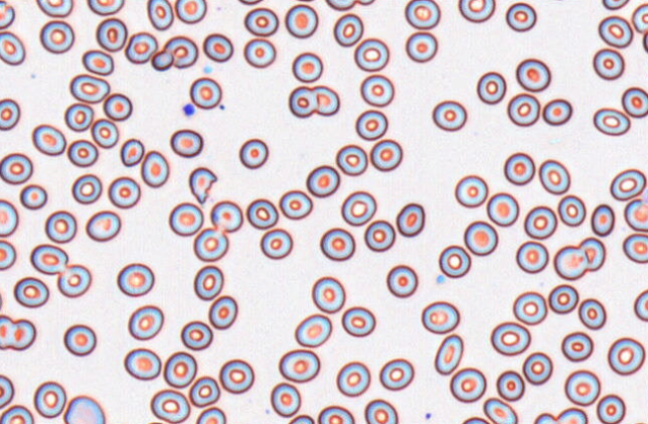PLT: (181, 102, 195, 118), (437, 273, 448, 285)
RBC: (607, 336, 645, 375), (278, 348, 320, 383), (150, 388, 190, 423), (490, 321, 530, 355), (0, 314, 36, 351), (564, 369, 600, 406), (127, 304, 163, 340), (340, 190, 376, 226), (218, 358, 254, 394), (449, 367, 486, 402), (117, 262, 154, 297), (335, 360, 370, 397), (294, 313, 332, 347), (421, 300, 459, 334), (311, 275, 345, 313), (63, 394, 105, 424), (433, 333, 463, 375), (463, 220, 498, 256), (515, 57, 551, 92), (163, 351, 197, 388), (33, 380, 66, 418), (123, 347, 161, 380), (553, 245, 588, 280), (56, 263, 91, 298), (193, 226, 228, 261), (168, 201, 203, 236), (353, 37, 389, 71), (319, 227, 355, 261), (609, 168, 646, 201), (30, 243, 68, 275), (69, 73, 109, 103), (512, 291, 547, 325), (284, 3, 318, 38), (379, 357, 414, 391), (597, 15, 633, 48), (523, 205, 557, 239), (454, 174, 488, 208), (163, 35, 198, 68), (486, 191, 519, 226), (305, 164, 340, 197), (39, 20, 74, 53), (13, 276, 49, 308), (538, 158, 570, 194), (431, 99, 467, 131), (438, 244, 471, 278), (507, 92, 540, 126), (31, 123, 66, 155), (359, 74, 394, 106), (85, 210, 121, 241), (592, 107, 630, 136), (63, 323, 96, 356), (210, 199, 243, 232), (124, 31, 157, 64), (515, 240, 548, 273), (369, 138, 402, 171), (189, 76, 222, 109), (95, 17, 127, 51), (503, 151, 535, 185), (259, 227, 293, 259), (341, 305, 375, 337), (386, 264, 418, 298), (270, 382, 301, 417), (193, 264, 223, 300), (140, 150, 169, 187), (44, 210, 76, 243), (0, 152, 33, 184), (107, 176, 140, 208), (363, 219, 395, 252), (592, 47, 624, 80), (395, 202, 425, 237), (404, 0, 440, 29), (188, 375, 220, 407), (335, 143, 367, 175), (355, 109, 388, 140), (522, 351, 552, 385), (278, 189, 312, 219), (208, 295, 238, 329), (243, 7, 278, 36), (291, 51, 323, 82), (561, 331, 593, 362), (246, 198, 278, 229), (243, 37, 275, 68), (405, 31, 437, 62), (180, 320, 213, 350), (333, 13, 363, 46), (476, 71, 506, 104), (169, 128, 203, 157), (578, 236, 606, 271), (71, 173, 102, 204), (505, 1, 536, 32), (482, 397, 517, 424), (596, 393, 626, 424), (548, 283, 578, 314), (202, 32, 233, 62), (238, 138, 268, 169), (288, 85, 317, 117), (557, 194, 586, 226), (67, 138, 98, 167), (496, 369, 524, 401), (578, 297, 606, 329), (0, 30, 25, 65), (621, 86, 648, 118), (81, 49, 114, 75), (623, 198, 648, 232), (364, 398, 398, 423), (64, 102, 93, 131), (103, 92, 132, 121), (312, 85, 339, 116), (457, 0, 495, 22), (590, 203, 615, 236), (146, 0, 173, 30), (91, 118, 118, 148), (542, 98, 572, 125), (622, 232, 648, 263), (174, 0, 206, 23), (19, 183, 47, 209), (119, 137, 144, 166), (0, 198, 18, 236), (317, 405, 354, 423), (0, 97, 20, 130), (0, 404, 34, 423), (35, 0, 73, 17), (86, 0, 124, 15), (195, 406, 226, 424), (631, 2, 648, 33), (556, 407, 588, 423), (633, 288, 648, 322), (0, 373, 14, 409), (0, 239, 16, 270), (0, 0, 15, 29), (324, 0, 356, 10), (532, 412, 557, 424), (601, 0, 630, 10), (286, 414, 314, 423), (460, 416, 490, 423), (642, 27, 648, 53), (235, 0, 264, 5), (356, 0, 376, 5), (0, 284, 3, 313), (143, 421, 171, 424), (538, 0, 579, 2), (645, 61, 648, 88), (622, 421, 648, 424), (288, 0, 318, 2)
Schistocyte: (188, 166, 219, 206), (151, 51, 173, 71)
